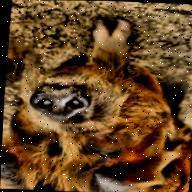boar: (0, 14, 192, 192), (5, 52, 28, 89)
